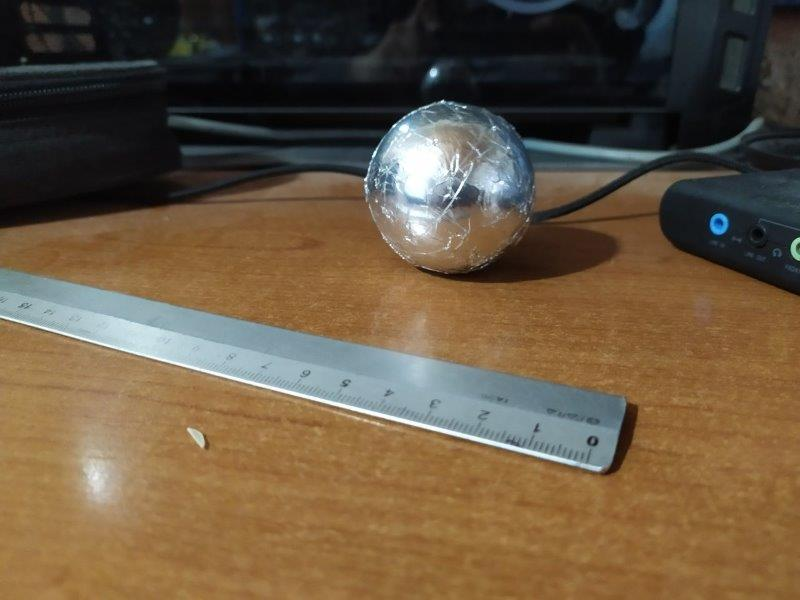bianca: (363, 101, 537, 282)
